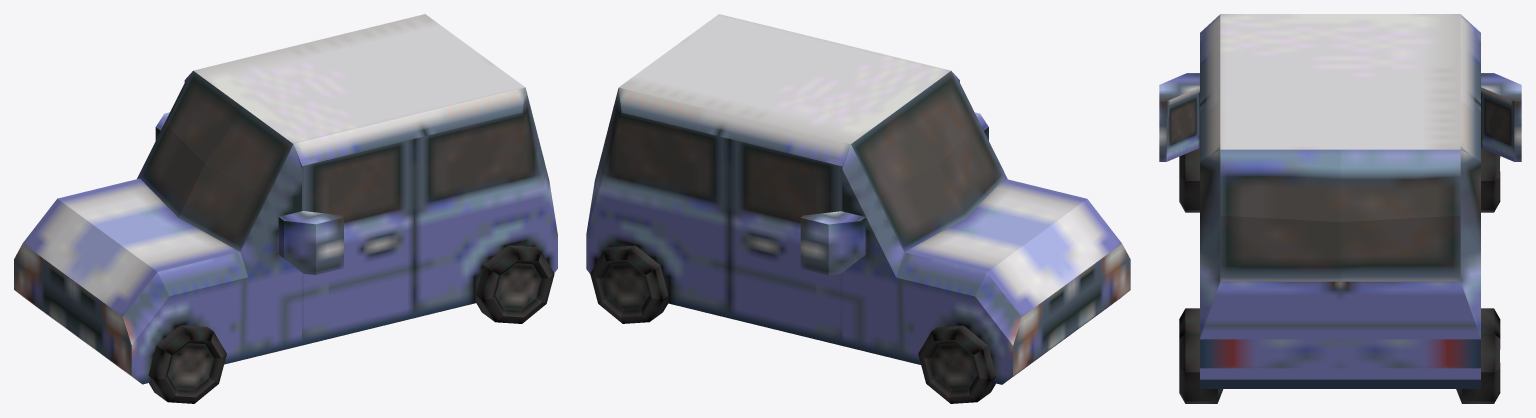
File: Poly_SF_Outside_B_Blue_Car_01.obj
3 views of the same model, side by side, from view 1: azimuth 30°, elevation 25°; view 2: azimuth 150°, elevation 25°; view 3: azimuth 270°, elevation 25° (orthographic). The views are drawn at different scales.
Parts seen in each view (by area): view 1: car, Back_Wheels, front_wheels; view 2: car, Back_Wheels, front_wheels; view 3: car, Back_Wheels, front_wheels.
Part boxes in pixels (x1,y1,x2,y2): car: (14, 14, 557, 384); Back_Wheels: (476, 245, 554, 323); front_wheels: (148, 325, 226, 403); car: (586, 14, 1130, 384); Back_Wheels: (590, 245, 668, 323); front_wheels: (918, 325, 995, 403); car: (1159, 14, 1521, 388); Back_Wheels: (1179, 308, 1500, 403); front_wheels: (1179, 148, 1500, 212).
Size of the model in its own units: 1.6 by 0.7943 by 0.984.
Materials: 1 (1 with a texture image).
